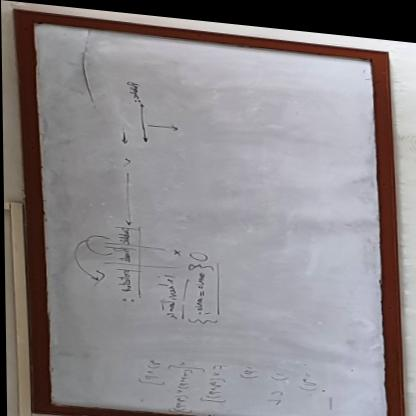Handwritten text: (151, 269, 183, 317), (105, 263, 137, 291), (115, 74, 152, 98), (99, 241, 137, 261), (107, 220, 139, 243)
Whiteboard: (23, 5, 386, 416)
